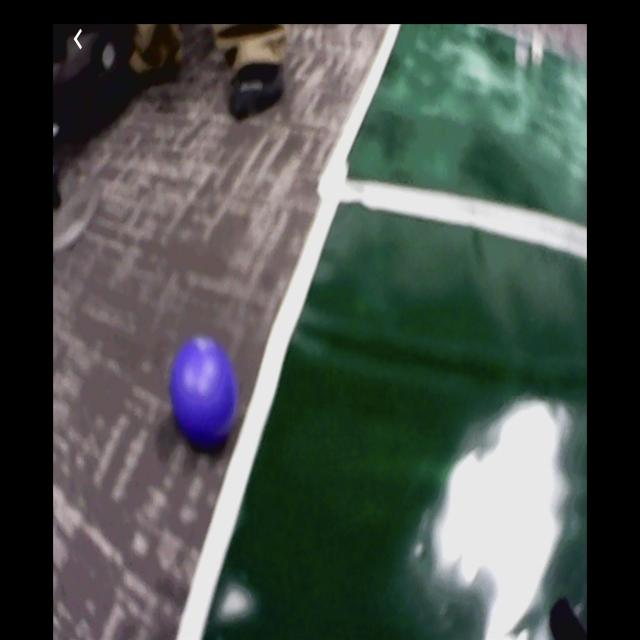ball: (173, 338, 238, 440)
